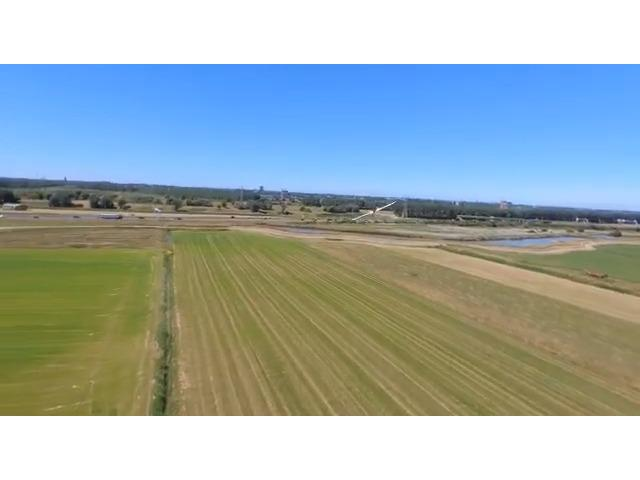Anti-Drone: (346, 194, 406, 228)
